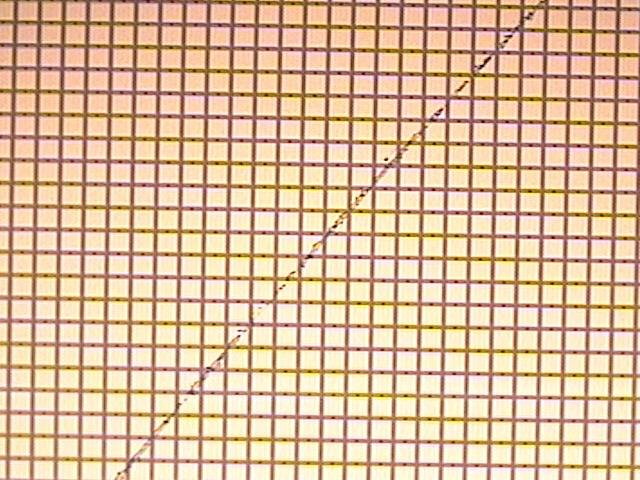SCRATCH: (98, 1, 568, 480)
